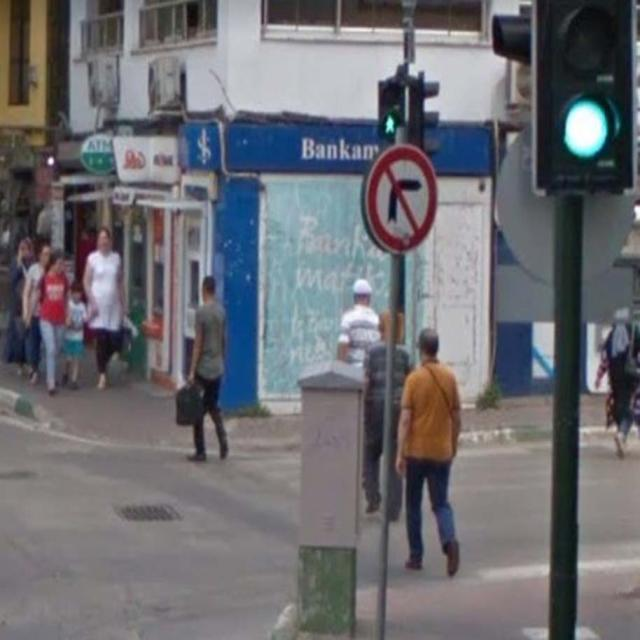sagadonulmez: (363, 145, 438, 253)
